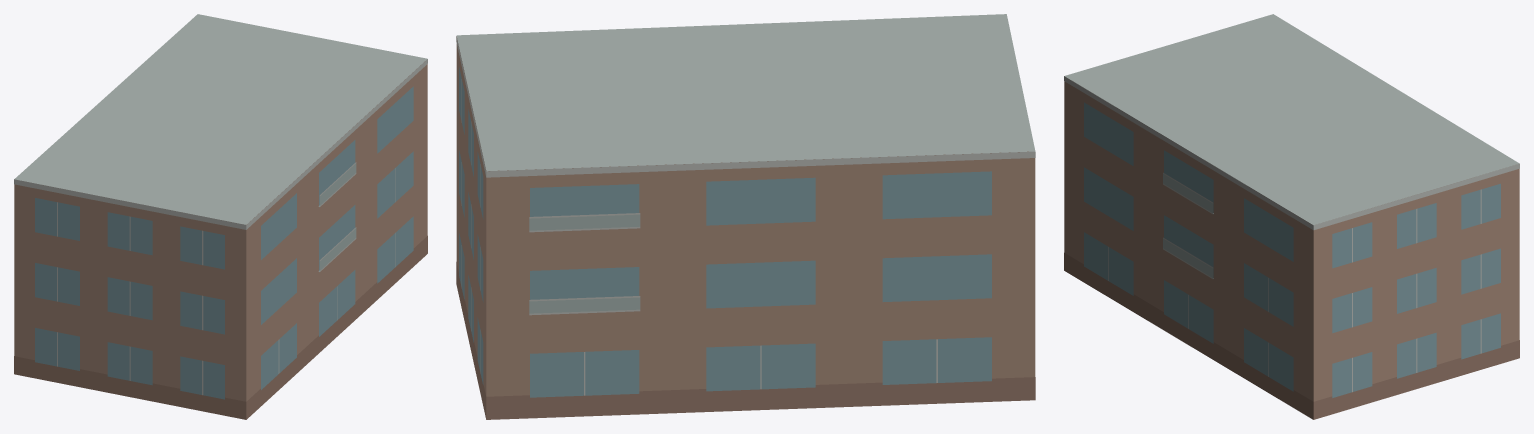
The model's file is survey-upis-32845534.glb.
3 views of the same model, side by side, from view 1: azimuth 30°, elevation 25°; view 2: azimuth 150°, elevation 25°; view 3: azimuth 270°, elevation 25° (orthographic). The views are drawn at different scales.
Parts seen in each view (by area): view 1: survey-upis-32845534.tmp; view 2: survey-upis-32845534.tmp; view 3: survey-upis-32845534.tmp.
Boxes of the visible parts, x1,y1,x2,y2 form: survey-upis-32845534.tmp: (14,14,427,419); survey-upis-32845534.tmp: (456,14,1035,419); survey-upis-32845534.tmp: (1064,14,1519,419).
Bounding box in the file's own units: 21.9 × 9.4 × 19.96.
